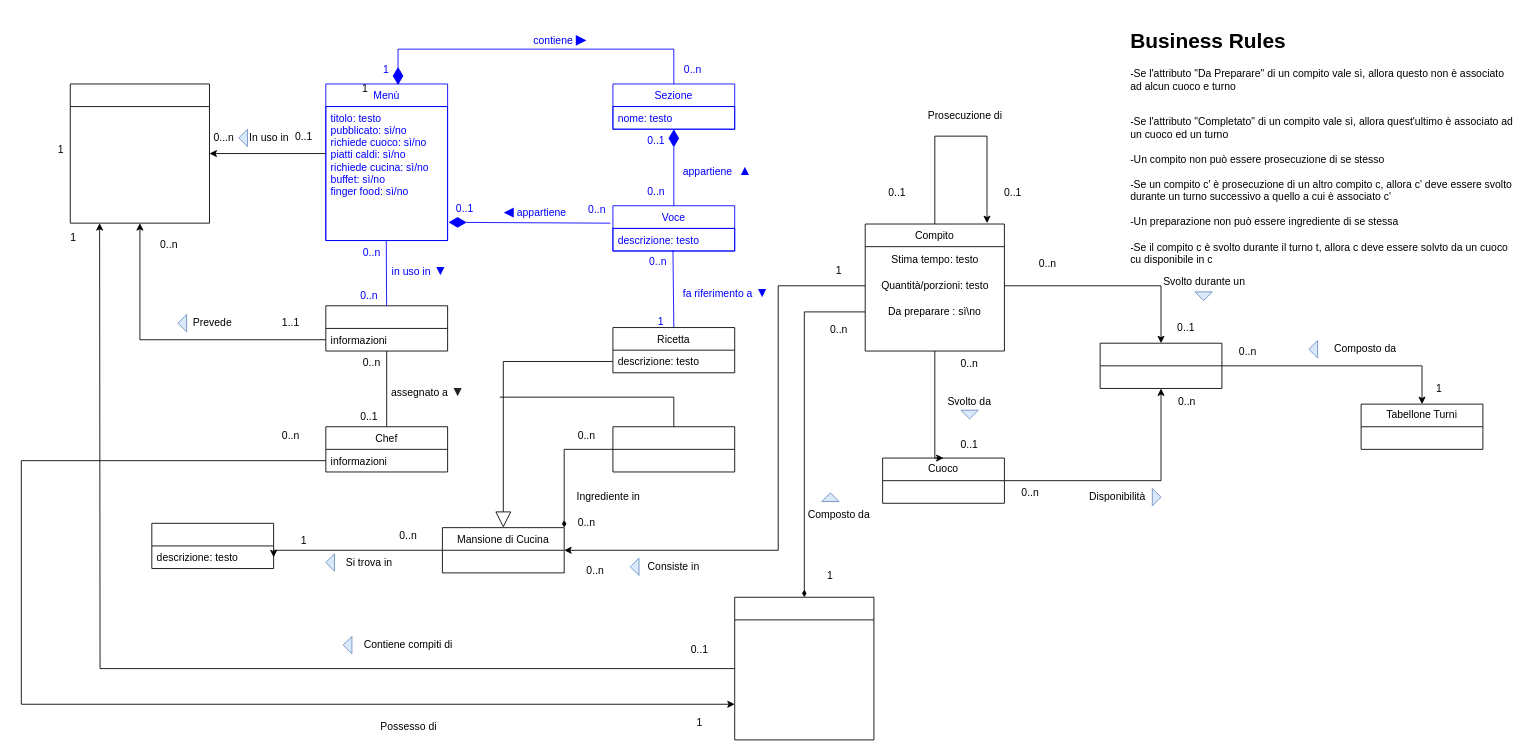
The diagram is 1533 pixels wide and 755 high, and some of its shapes have lost their labels. The shapes that lost their labels are listed below. From the top down, each one's box as (x1, y1, x2, y2) in pixels, then its label:
(69, 83, 209, 223): Servizio
(325, 305, 448, 351): Evento
(1099, 342, 1222, 388): Turno
(612, 426, 735, 472): Preparazione
(151, 522, 274, 569): Ricettario
(734, 596, 874, 740): Foglio Riepilogativo
